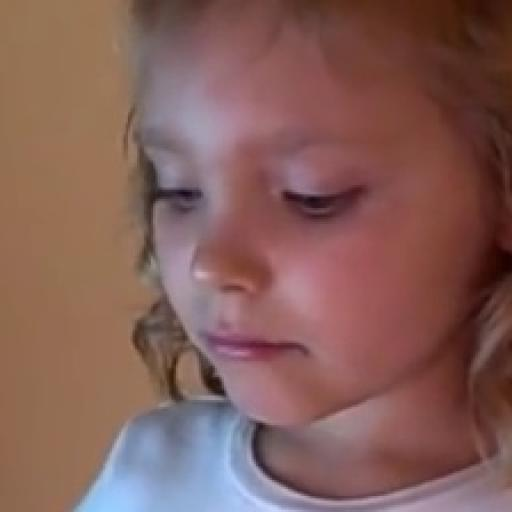Autism: (107, 20, 512, 484)
